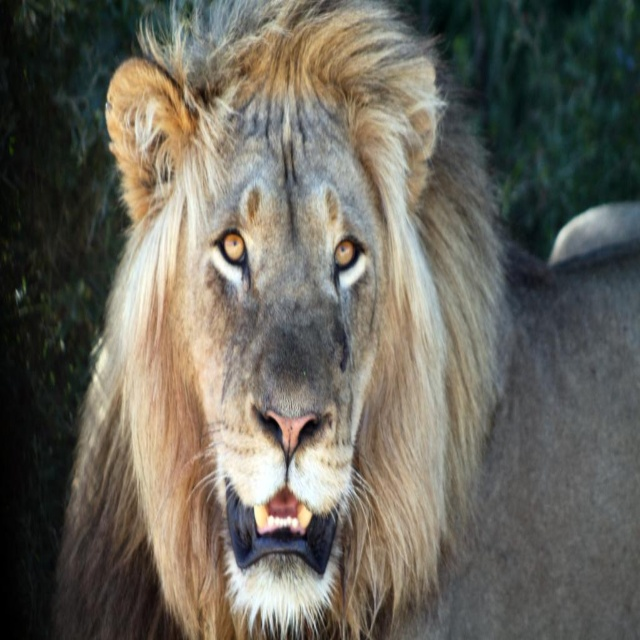Lion: (53, 0, 640, 639)
